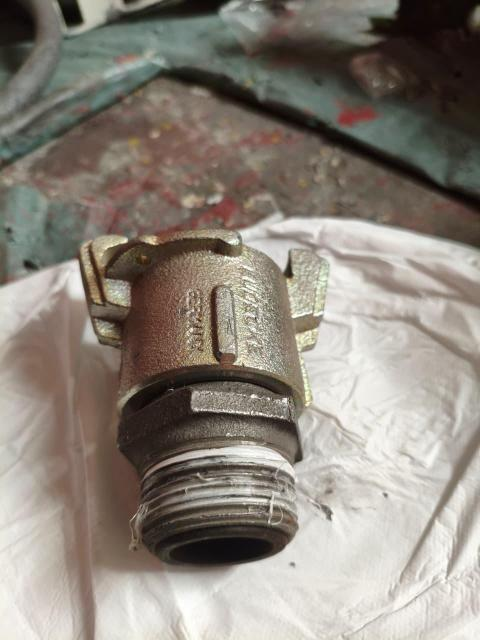Metal: (80, 235, 333, 557)
